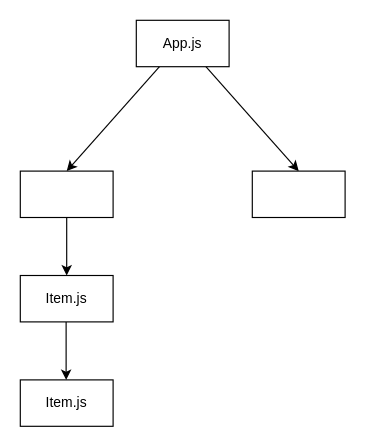
Some shapes in this 365 by 447 pixel diagram are drawn without their labels. The shapes that lost their labels are listed below. From the top down, each one's centre as x and y in pixels, then its label:
[66,193]: Homepage.js
[298,193]: AddItem.js
